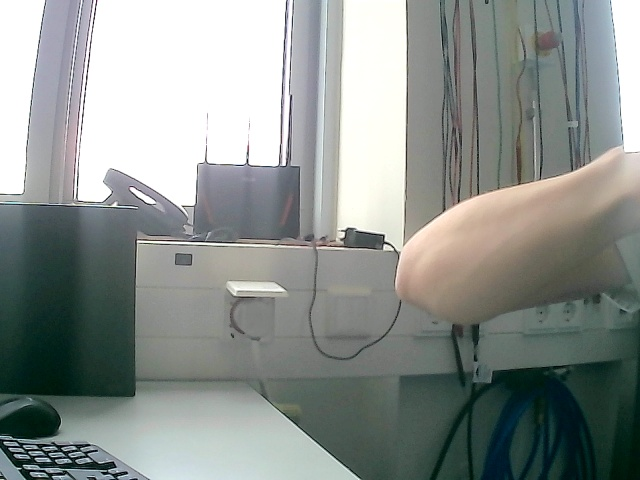no_gesture: (393, 144, 639, 327)
